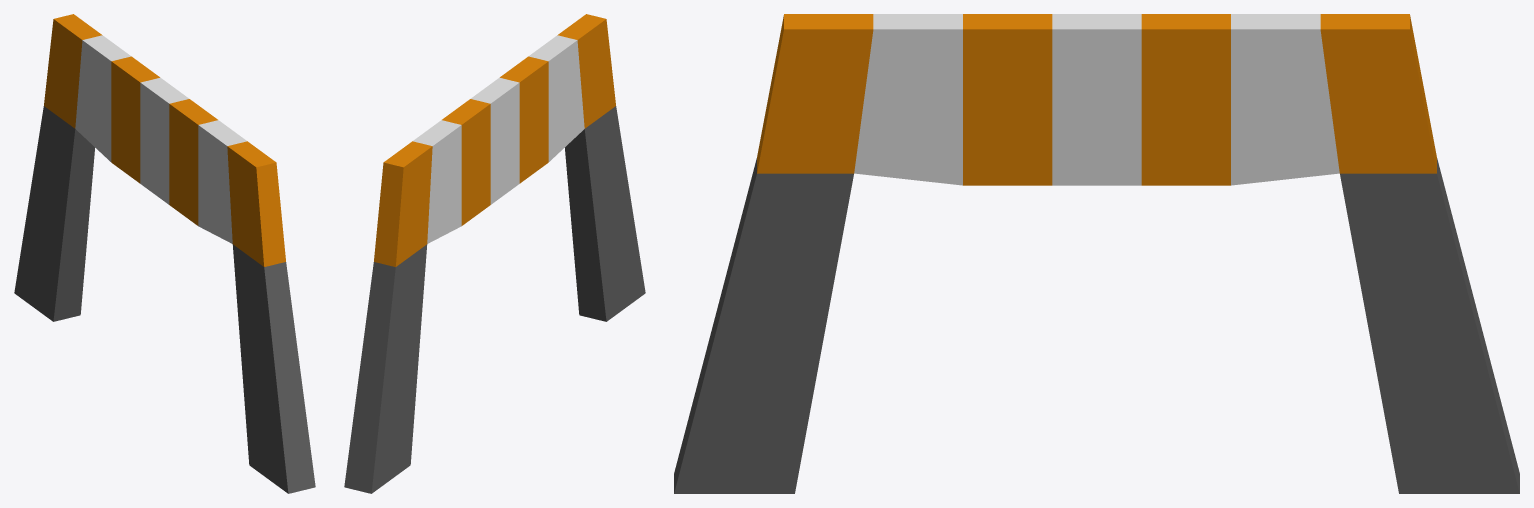
The model's file is Trafficstooper.fbx.
3 renders of one model, left to right at view 1: azimuth 30°, elevation 25°; view 2: azimuth 150°, elevation 25°; view 3: azimuth 270°, elevation 25°, orthographic. The views are drawn at different scales.
Visible parts, largest first — view 1: Cube; view 2: Cube; view 3: Cube.
Boxes of the visible parts, bbox=[...] form: Cube: bbox=[14, 14, 315, 493]; Cube: bbox=[344, 14, 645, 493]; Cube: bbox=[674, 14, 1519, 493].
Bounding box in the file's own units: 85.44 × 896 × 1487.
